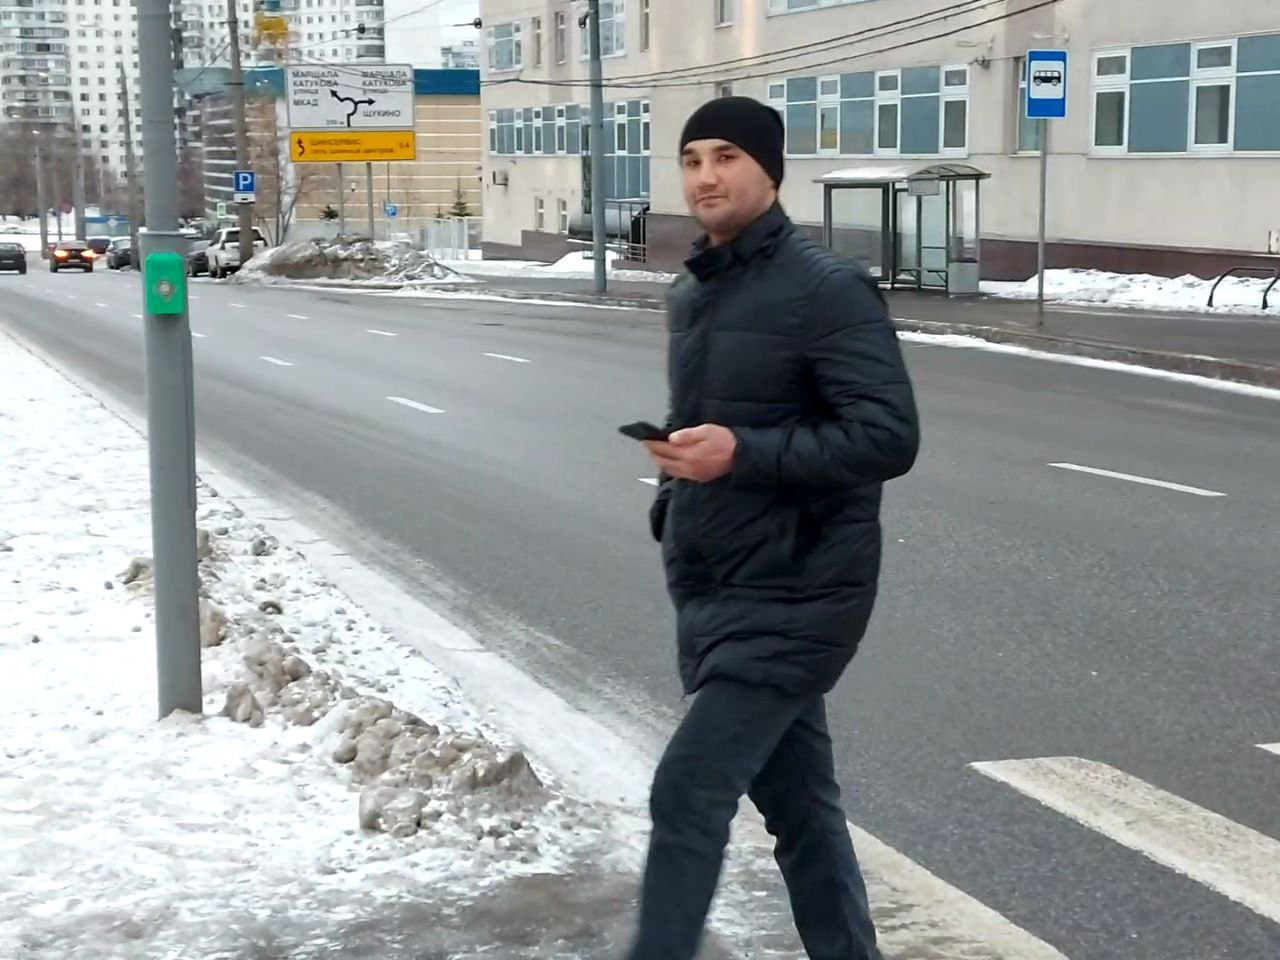sombie: (560, 61, 971, 960)
